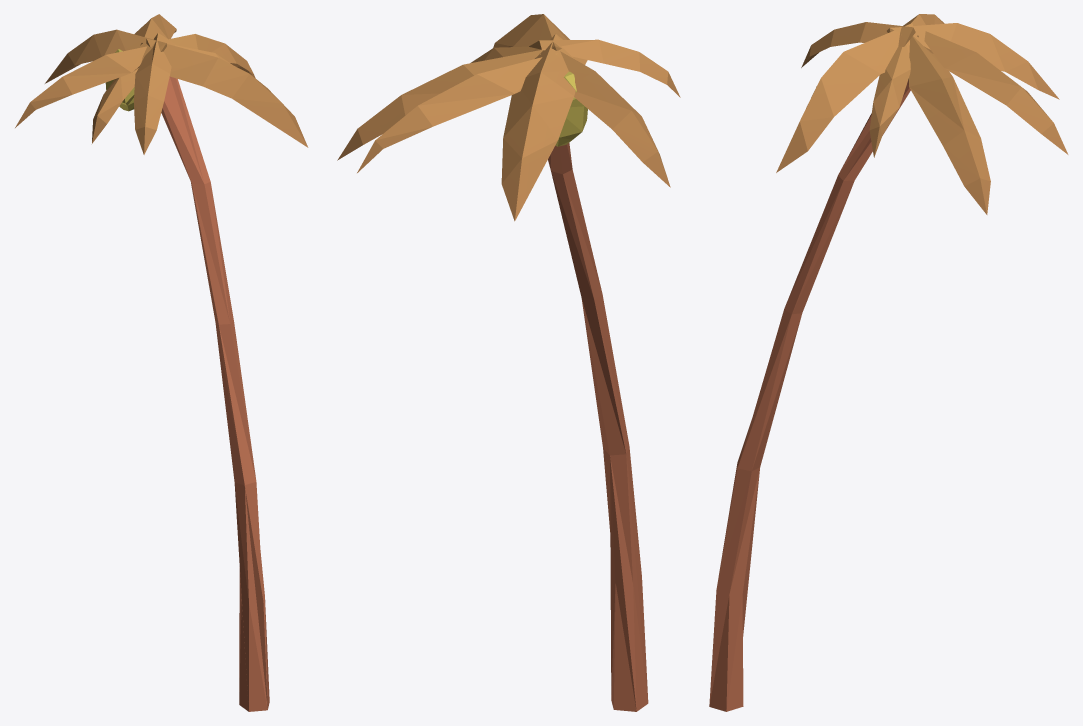
Rendered from Tree_12_gradient_yellow_vc.fbx.
The picture shows the model from 3 angles, left to right: view 1: azimuth 30°, elevation 25°; view 2: azimuth 150°, elevation 25°; view 3: azimuth 270°, elevation 25°; orthographic projection. The views are drawn at different scales.
Parts seen in each view (by area): view 1: Tree_12_gradient_yellow_vc; view 2: Tree_12_gradient_yellow_vc; view 3: Tree_12_gradient_yellow_vc.
Boxes of the visible parts, bbox=[...] form: Tree_12_gradient_yellow_vc: bbox=[15, 14, 308, 711]; Tree_12_gradient_yellow_vc: bbox=[337, 14, 680, 711]; Tree_12_gradient_yellow_vc: bbox=[709, 14, 1068, 711].
Bounding box in the file's own units: 80.91 × 183 × 88.81.
